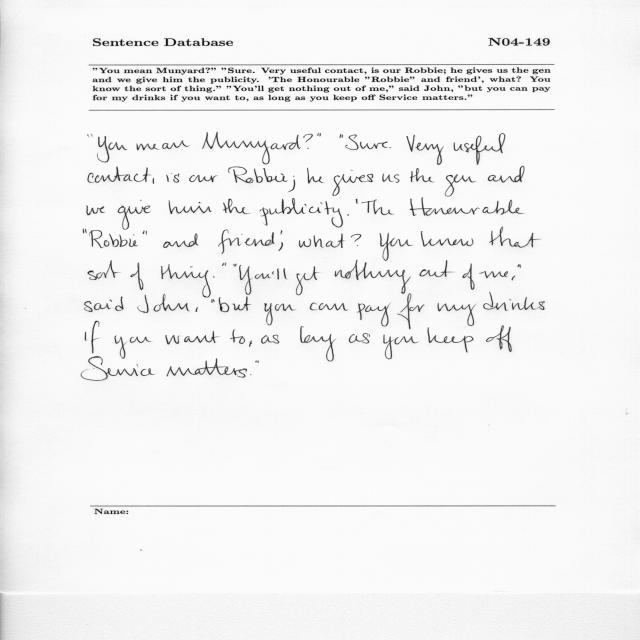word: (202, 132, 301, 165), (335, 260, 411, 294), (260, 198, 343, 227), (410, 197, 525, 216), (483, 292, 545, 327), (228, 167, 295, 193), (161, 264, 211, 298), (166, 331, 219, 363), (454, 133, 506, 165), (218, 229, 275, 254), (81, 364, 155, 381), (300, 327, 336, 361), (85, 297, 124, 327), (428, 328, 474, 353), (406, 135, 444, 165), (167, 364, 247, 378), (489, 227, 541, 248), (88, 166, 152, 183), (333, 170, 374, 196), (137, 294, 190, 313), (118, 200, 151, 230), (397, 294, 424, 330), (239, 265, 271, 295), (379, 233, 413, 261), (265, 303, 304, 327), (115, 335, 152, 359), (89, 230, 138, 248), (438, 303, 476, 326), (383, 335, 418, 359), (421, 231, 473, 247), (357, 303, 391, 327), (98, 136, 128, 162), (445, 174, 476, 197), (296, 266, 319, 295), (88, 260, 121, 280), (486, 327, 512, 352), (85, 327, 103, 363), (345, 135, 388, 150), (299, 234, 345, 248), (488, 166, 525, 183), (419, 260, 455, 277), (169, 200, 211, 214), (163, 233, 199, 248), (362, 199, 395, 215), (219, 297, 251, 313), (223, 199, 250, 214), (230, 329, 252, 347), (131, 263, 144, 290), (410, 168, 435, 182), (463, 263, 475, 290), (310, 303, 348, 311), (307, 168, 324, 184), (162, 140, 190, 149), (349, 333, 370, 343), (189, 175, 218, 182), (479, 271, 508, 278), (87, 206, 105, 216), (272, 268, 288, 279), (136, 144, 160, 151), (261, 335, 279, 344), (383, 174, 400, 183), (303, 134, 313, 149), (167, 173, 180, 183), (351, 234, 361, 246), (279, 242, 283, 251), (142, 230, 147, 235), (83, 229, 87, 234), (222, 262, 227, 266), (317, 133, 321, 137), (340, 134, 344, 138), (512, 276, 515, 281), (195, 307, 198, 312), (233, 264, 237, 267), (518, 264, 521, 268), (212, 299, 215, 303), (255, 360, 259, 363), (356, 199, 358, 204), (281, 230, 283, 234), (153, 178, 154, 184), (347, 214, 349, 216), (213, 276, 215, 278), (389, 147, 391, 148), (293, 176, 295, 177), (250, 374, 252, 375)
